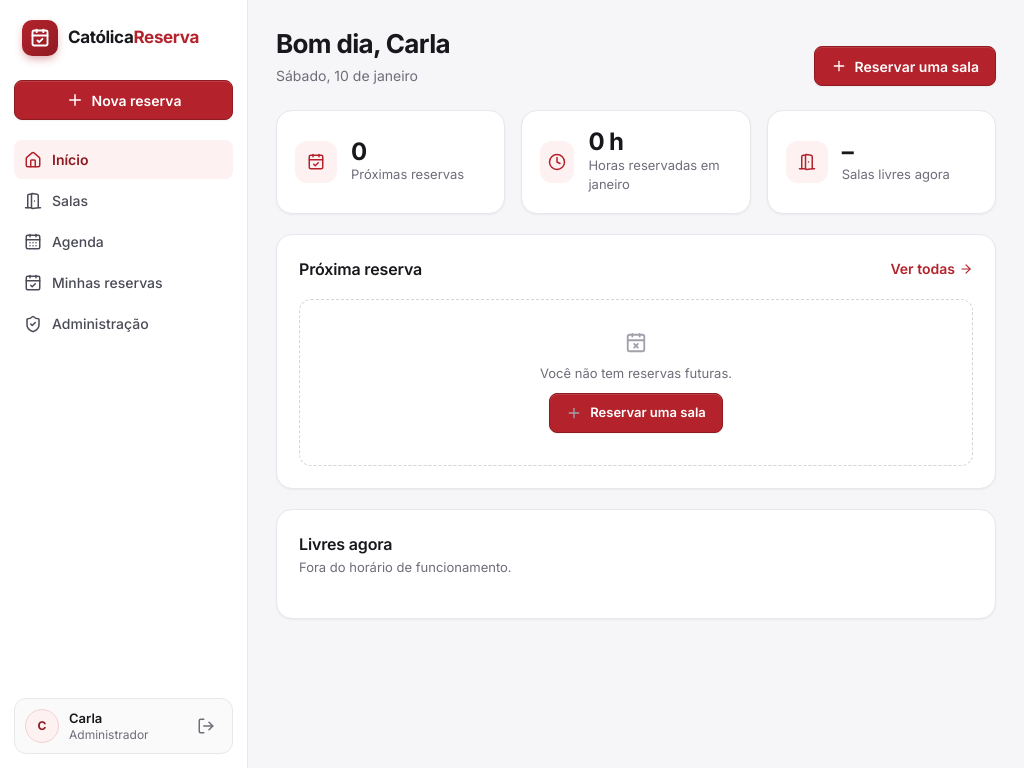
Test: App › o administrador também vê a Administração
Click the button "Administração" at {"x": 124, "y": 324}, box x1=14 y1=304 x2=233 y2=343
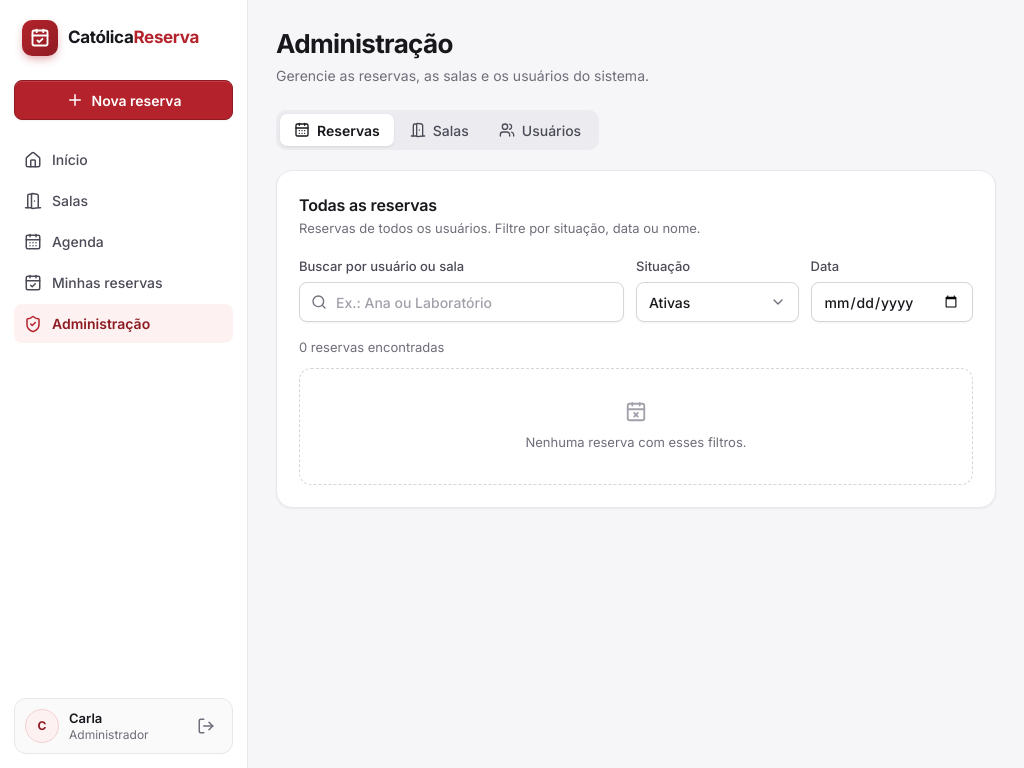
Now the heading "Todas as reservas" is shown, box x1=299 y1=195 x2=437 y2=215
